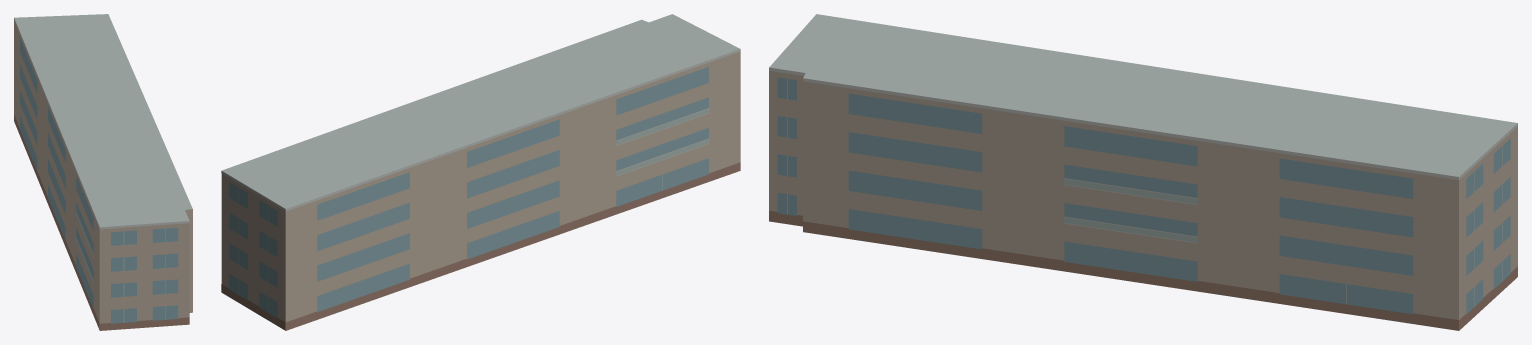
File: survey-upis-32749798.glb
3 renders of one model, left to right at view 1: azimuth 30°, elevation 25°; view 2: azimuth 150°, elevation 25°; view 3: azimuth 270°, elevation 25°, orthographic. The views are drawn at different scales.
Visible parts, largest first — view 1: survey-upis-32749798.tmp; view 2: survey-upis-32749798.tmp; view 3: survey-upis-32749798.tmp.
Part boxes in pixels (bbox=[...]): survey-upis-32749798.tmp: bbox=[14, 14, 192, 330]; survey-upis-32749798.tmp: bbox=[221, 14, 740, 330]; survey-upis-32749798.tmp: bbox=[769, 14, 1517, 330].
Bounding box in the file's own units: 26.58 × 11.7 × 51.6.
